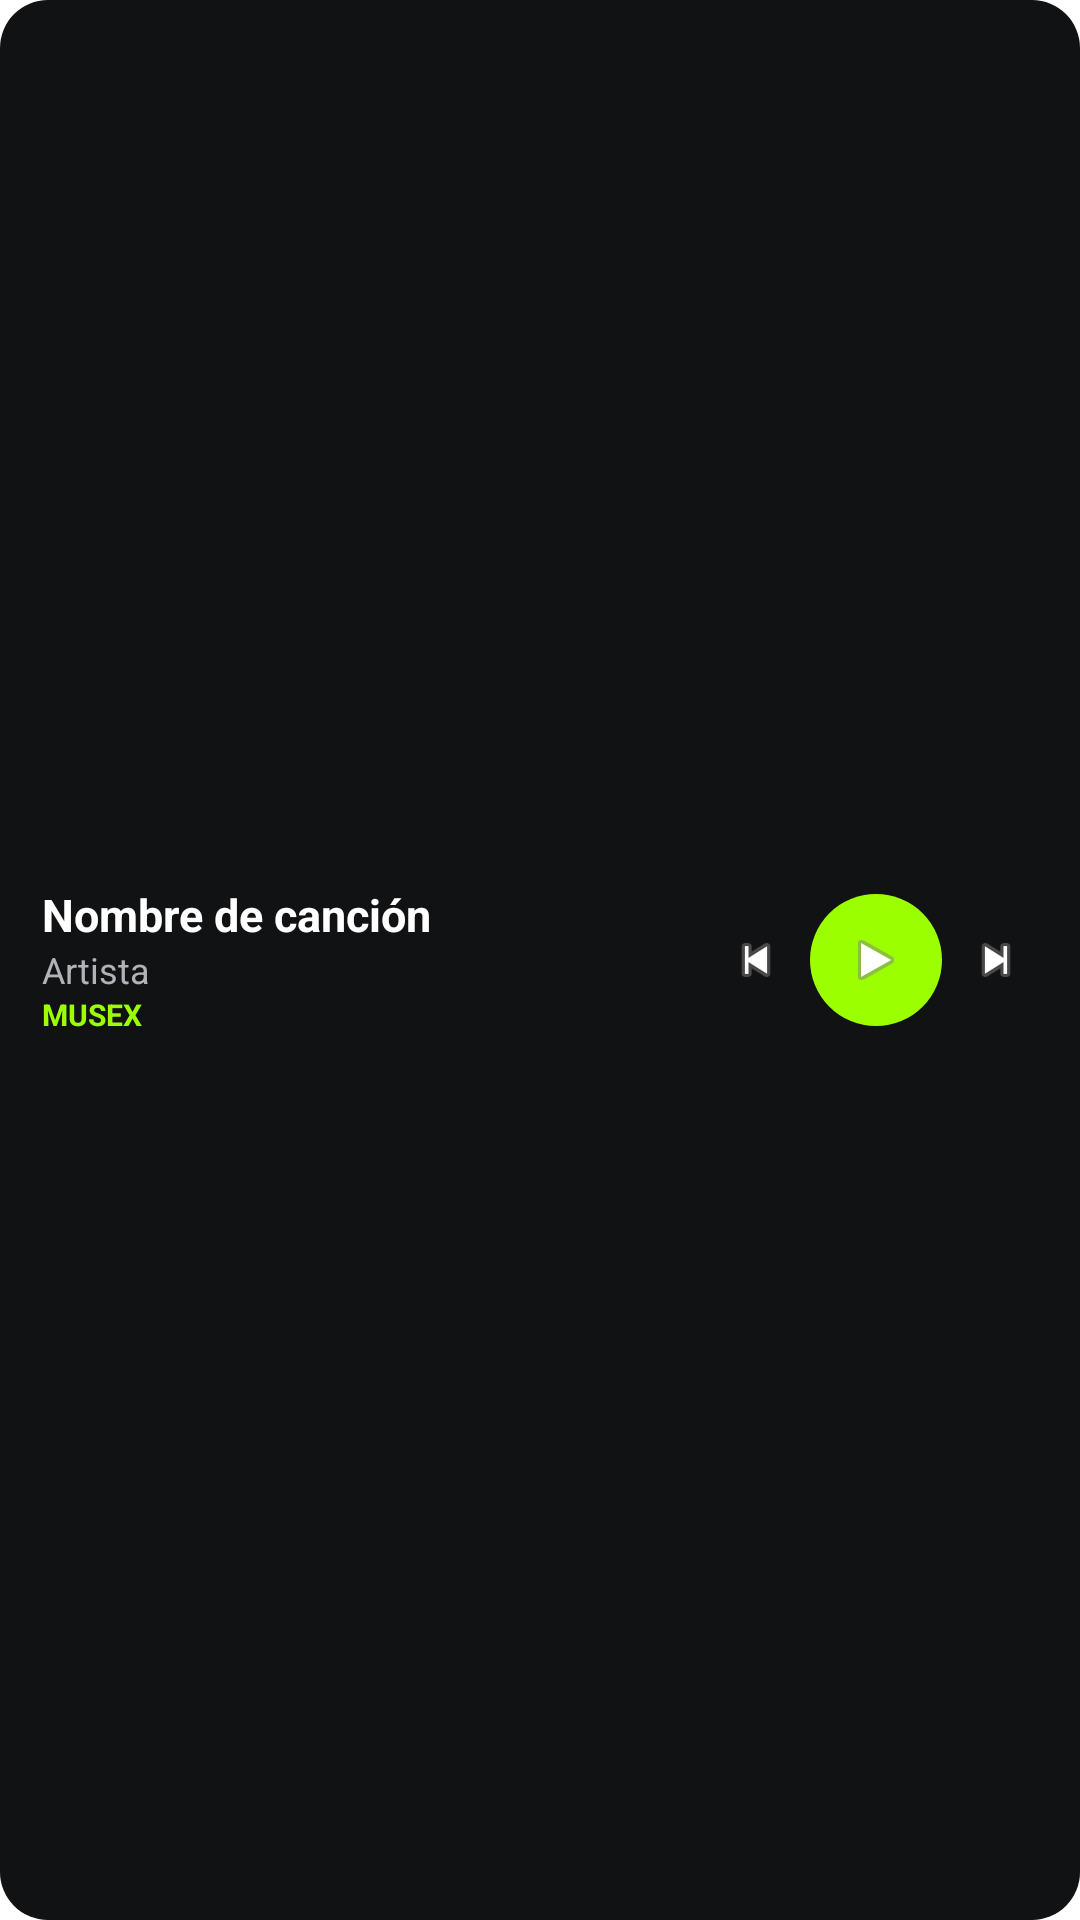

Icons on this 1080px x 1920px Android screen, each with the point to tap as point (x, y):
Anterior: point (756, 960)
Reproducir o pausar: point (876, 960)
Siguiente: point (996, 960)
